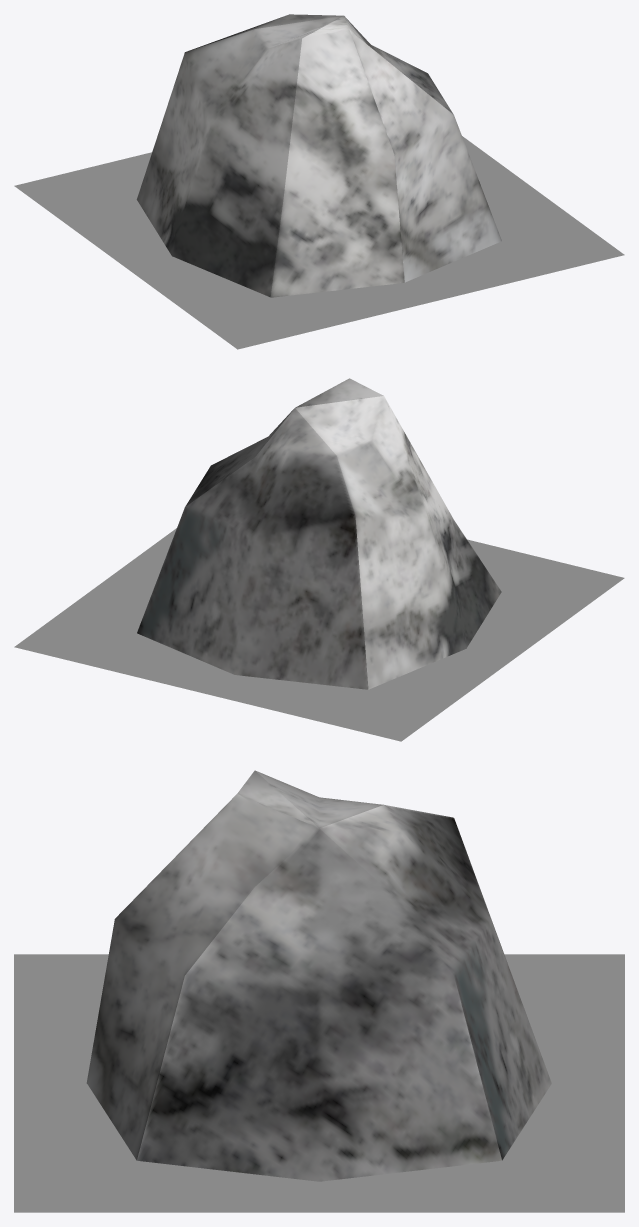
Rendered from Rock1.FBX.
3 views of the same model, one above another, from view 1: azimuth 30°, elevation 25°; view 2: azimuth 150°, elevation 25°; view 3: azimuth 270°, elevation 25° (orthographic). The views are drawn at different scales.
Visible parts, largest first — view 1: Box012, Plane003; view 2: Box012, Plane003; view 3: Box012, Plane003.
Boxes of the visible parts, bbox=[...] form: Box012: bbox=[136, 14, 501, 297]; Plane003: bbox=[14, 136, 624, 349]; Box012: bbox=[137, 378, 501, 689]; Plane003: bbox=[14, 528, 624, 741]; Box012: bbox=[86, 770, 551, 1181]; Plane003: bbox=[14, 954, 624, 1212].
Size of the model in its own units: 197 by 104 by 197.
